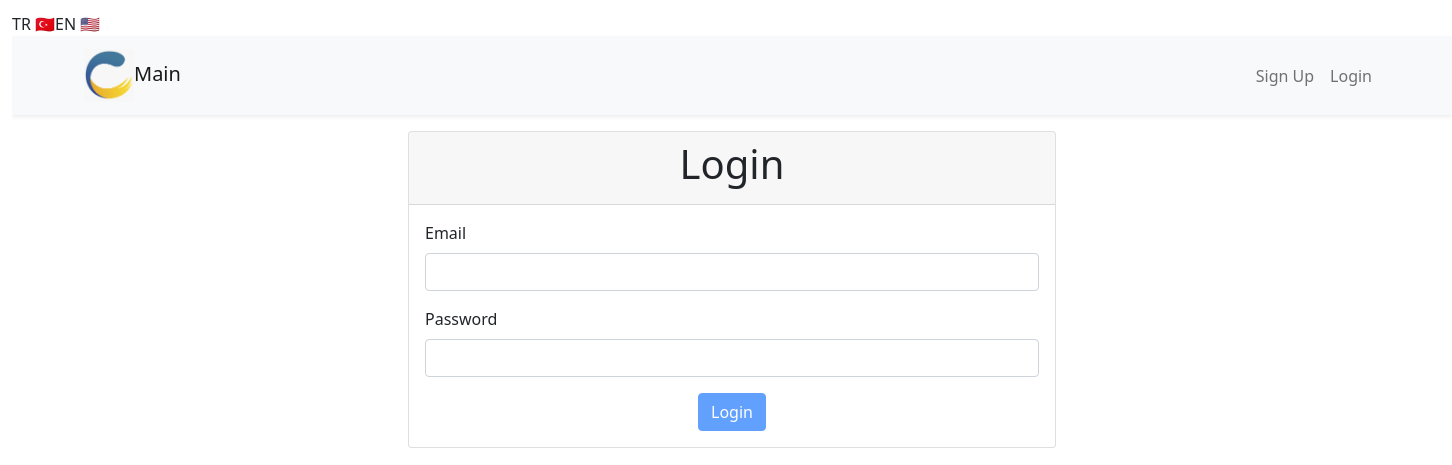
Test case: Routing › displays Home page when clicking on brand logo
The width and height of the screenshot is (1452, 465).
Click the picture with alt text "logo": (109, 76) 84,49 -> 134,102
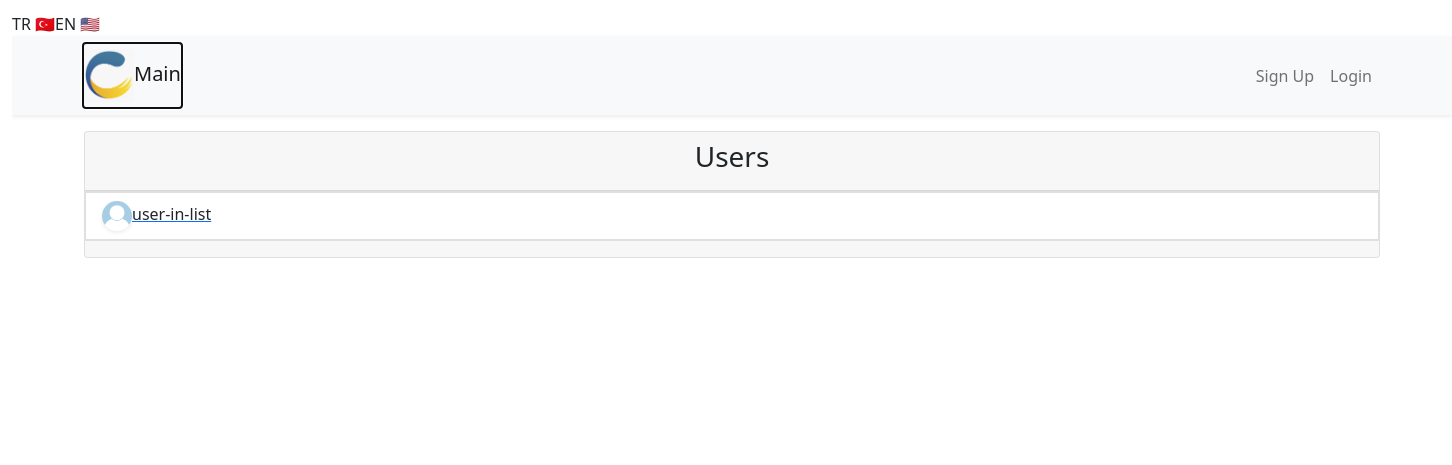
Expected: the element with test id "home-page" is shown, 84,131 -> 1380,258
